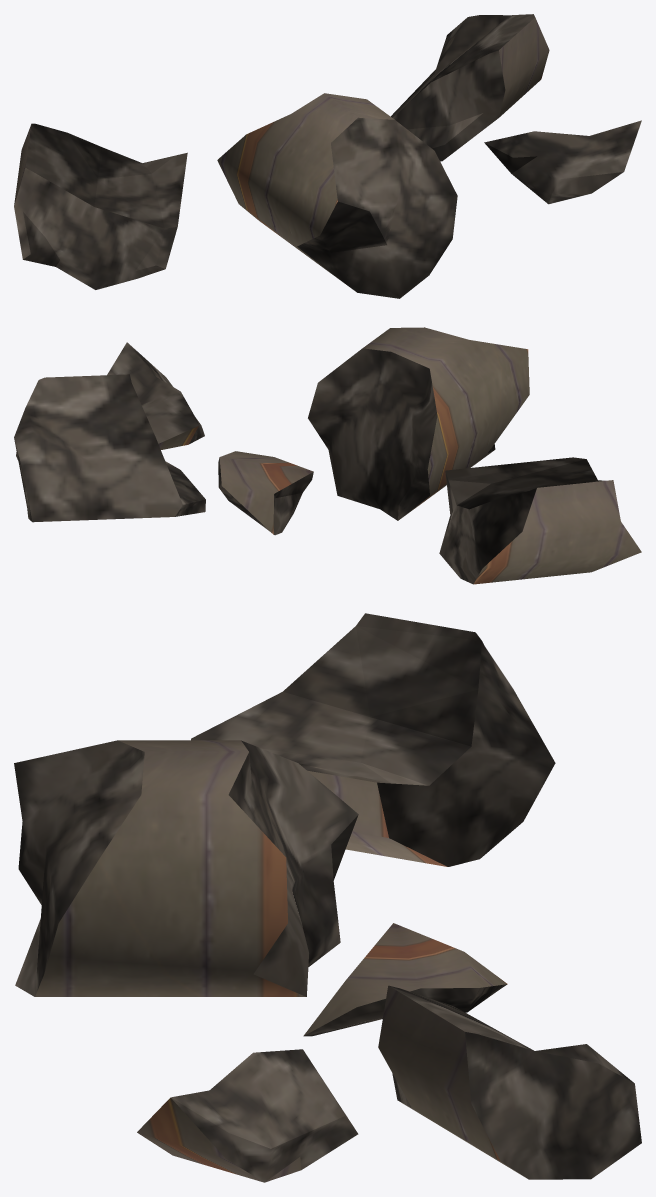
Rendered from blsd_boss_posui_3.FBX.
3 views of the same model, one above another, from view 1: azimuth 30°, elevation 25°; view 2: azimuth 150°, elevation 25°; view 3: azimuth 270°, elevation 25° (orthographic). The views are drawn at different scales.
Visible parts, largest first — view 1: blsd_boss_posui_3; view 2: blsd_boss_posui_3; view 3: blsd_boss_posui_3.
Part boxes in pixels (x1,y1,x2,y2): blsd_boss_posui_3: [14, 14, 641, 298]; blsd_boss_posui_3: [14, 327, 641, 584]; blsd_boss_posui_3: [14, 613, 641, 1182].
Bounding box in the file's own units: 754 × 459 × 192.
